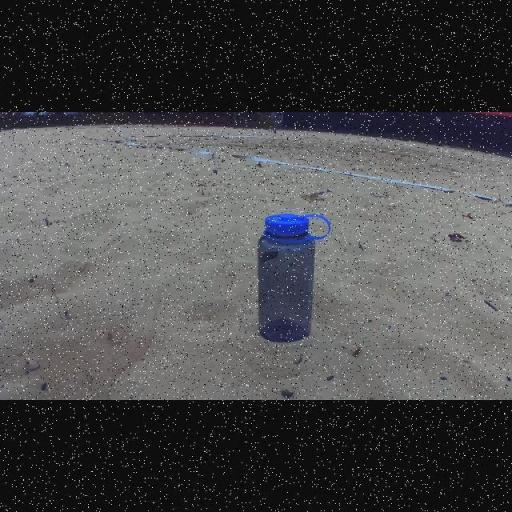bottle: (256, 214, 333, 344)
